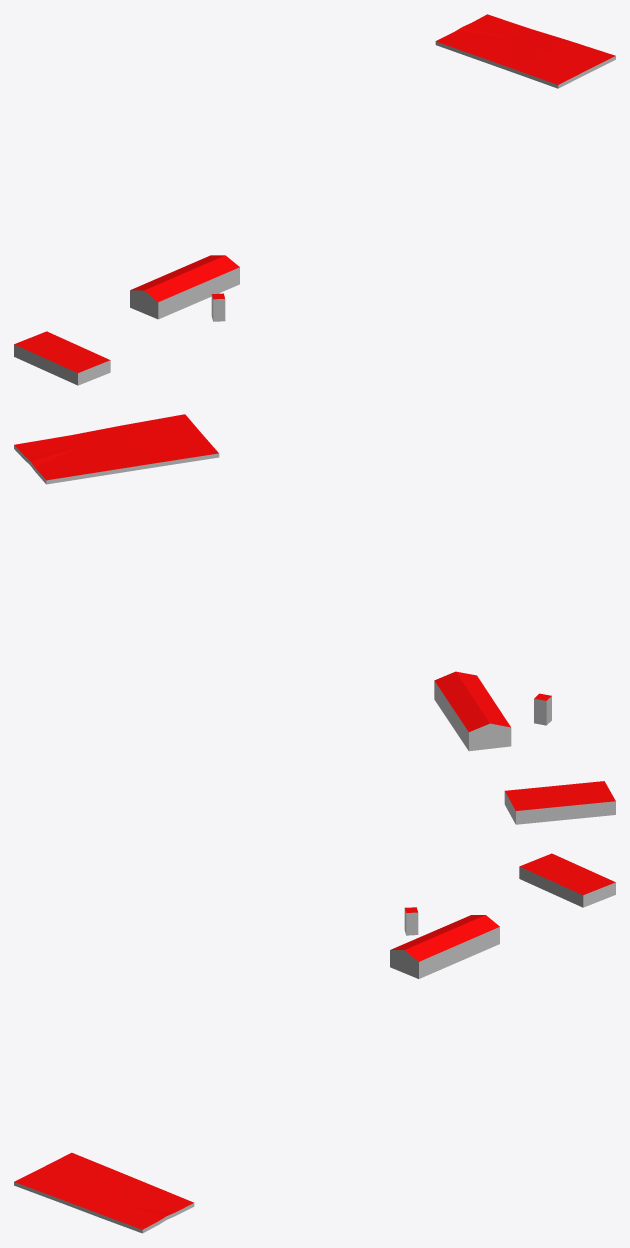
3 views of the same model, one above another, from view 1: azimuth 90°, elevation 25°; view 2: azimuth 150°, elevation 25°; view 3: azimuth 270°, elevation 25° (orthographic). The views are drawn at different scales.
Bounding box in the file's own units: 210 × 6.15 × 145.
